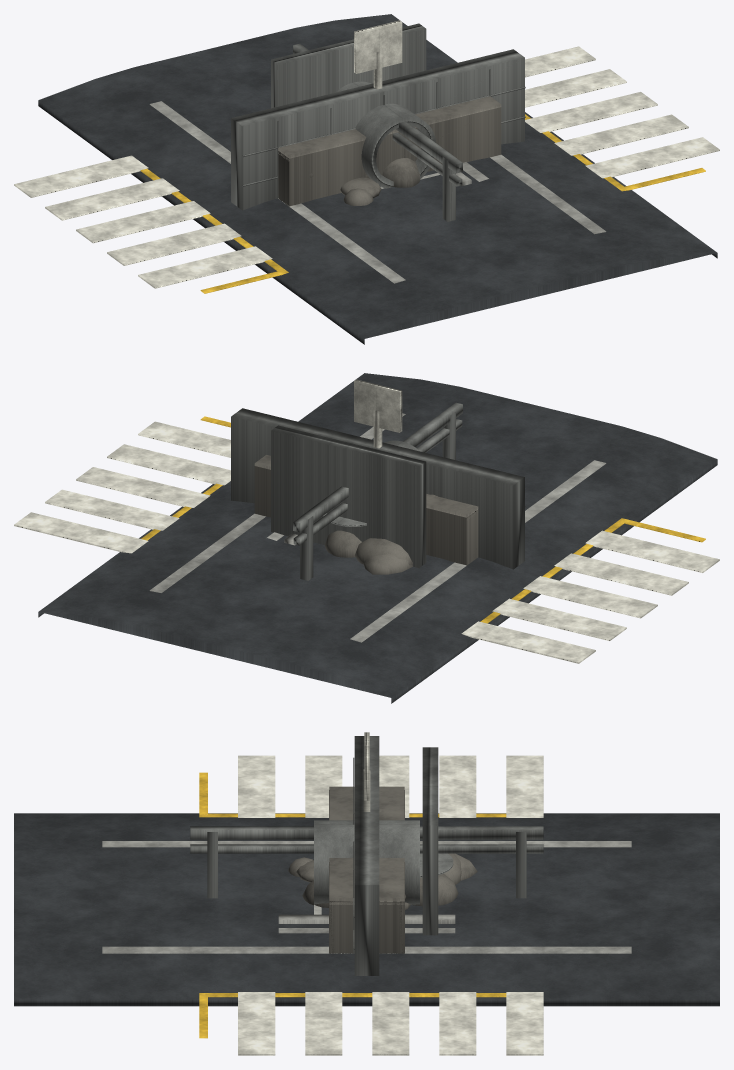
The model's file is RoadAccessoryLibrary_All.obj.
3 renders of one model, top to bottom at view 1: azimuth 30°, elevation 25°; view 2: azimuth 150°, elevation 25°; view 3: azimuth 270°, elevation 25°, orthographic. The views are drawn at different scales.
Parts seen in each view (by area): view 1: MKT_SpeedTable_8m, MKT_ZebraCrossing_8m, HILL_RetainingWall_4m, HILL_Gabion_3m, HILL_CulvertHeadwall_2m, MKT_LoadingApron_3x6m, HILL_Guardrail_4m, SH_RoadsideSign_0p65m, MKT_TricycleWaitingBay_Markings, HILL_RockShoulder_Cluster; view 2: MKT_SpeedTable_8m, MKT_ZebraCrossing_8m, HILL_CulvertHeadwall_2m, HILL_RetainingWall_4m, HILL_Gabion_3m, MKT_LoadingApron_3x6m, HILL_Guardrail_4m, HILL_RockShoulder_Cluster, SH_RoadsideSign_0p65m, MKT_TricycleWaitingBay_Markings; view 3: MKT_SpeedTable_8m, MKT_ZebraCrossing_8m, HILL_CulvertHeadwall_2m, HILL_Gabion_3m, HILL_Guardrail_4m, HILL_RetainingWall_4m, MKT_LoadingApron_3x6m, MKT_TricycleWaitingBay_Markings, HILL_RockShoulder_Cluster, RES_Sidewalk_Straight_2m, SH_RoadsideSign_0p65m, RES_DrivewayTransition_2m.
Boxes of the visible parts, <box> form: MKT_SpeedTable_8m: <box>38,14,717,344</box>; MKT_ZebraCrossing_8m: <box>14,46,719,288</box>; HILL_RetainingWall_4m: <box>231,49,525,210</box>; HILL_Gabion_3m: <box>278,96,501,206</box>; HILL_CulvertHeadwall_2m: <box>271,23,436,188</box>; MKT_LoadingApron_3x6m: <box>149,101,606,283</box>; HILL_Guardrail_4m: <box>293,43,462,221</box>; SH_RoadsideSign_0p65m: <box>354,20,402,89</box>; MKT_TricycleWaitingBay_Markings: <box>140,114,705,293</box>; HILL_RockShoulder_Cluster: <box>340,158,419,205</box>; MKT_SpeedTable_8m: <box>38,373,717,703</box>; MKT_ZebraCrossing_8m: <box>14,421,719,663</box>; HILL_CulvertHeadwall_2m: <box>271,425,426,567</box>; HILL_RetainingWall_4m: <box>231,408,525,569</box>; HILL_Gabion_3m: <box>254,455,478,565</box>; MKT_LoadingApron_3x6m: <box>149,413,606,642</box>; HILL_Guardrail_4m: <box>293,402,462,580</box>; HILL_RockShoulder_Cluster: <box>325,530,412,574</box>; SH_RoadsideSign_0p65m: <box>354,379,402,448</box>; MKT_TricycleWaitingBay_Markings: <box>141,416,705,623</box>; MKT_SpeedTable_8m: <box>14,813,719,1006</box>; MKT_ZebraCrossing_8m: <box>238,755,543,1055</box>; HILL_CulvertHeadwall_2m: <box>314,747,453,935</box>; HILL_Gabion_3m: <box>328,786,405,953</box>; HILL_Guardrail_4m: <box>190,826,543,898</box>; HILL_RetainingWall_4m: <box>353,736,379,975</box>; MKT_LoadingApron_3x6m: <box>102,841,631,953</box>; MKT_TricycleWaitingBay_Markings: <box>199,772,506,1038</box>; HILL_RockShoulder_Cluster: <box>288,853,477,909</box>; RES_Sidewalk_Straight_2m: <box>278,914,455,923</box>; SH_RoadsideSign_0p65m: <box>363,732,370,811</box>; RES_DrivewayTransition_2m: <box>278,928,455,933</box>.
Size of the model in its own units: 8 by 2.29 by 8.
Materials: 11 (11 with a texture image).
